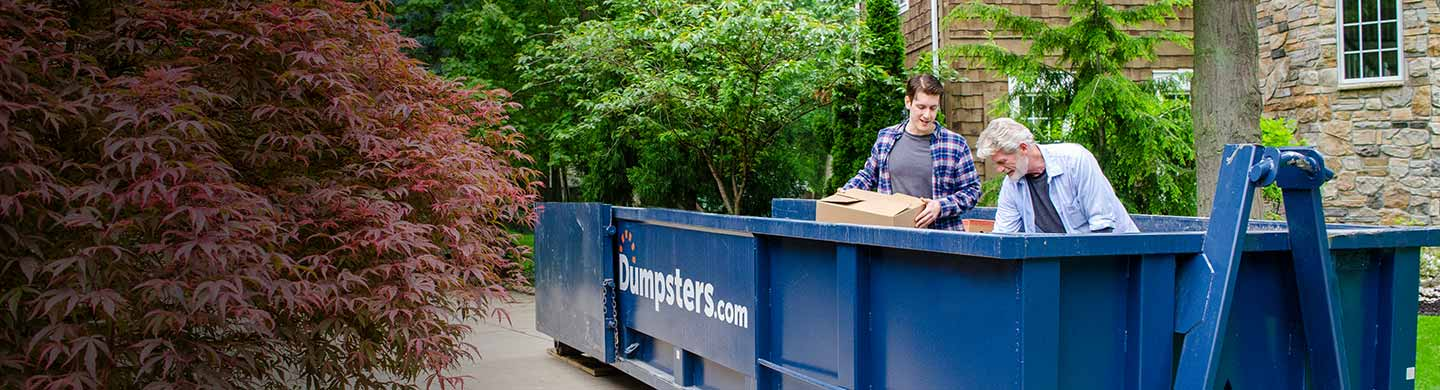Dumpster: (506, 140, 1439, 390)
Person: (843, 65, 983, 235), (972, 104, 1142, 242)
